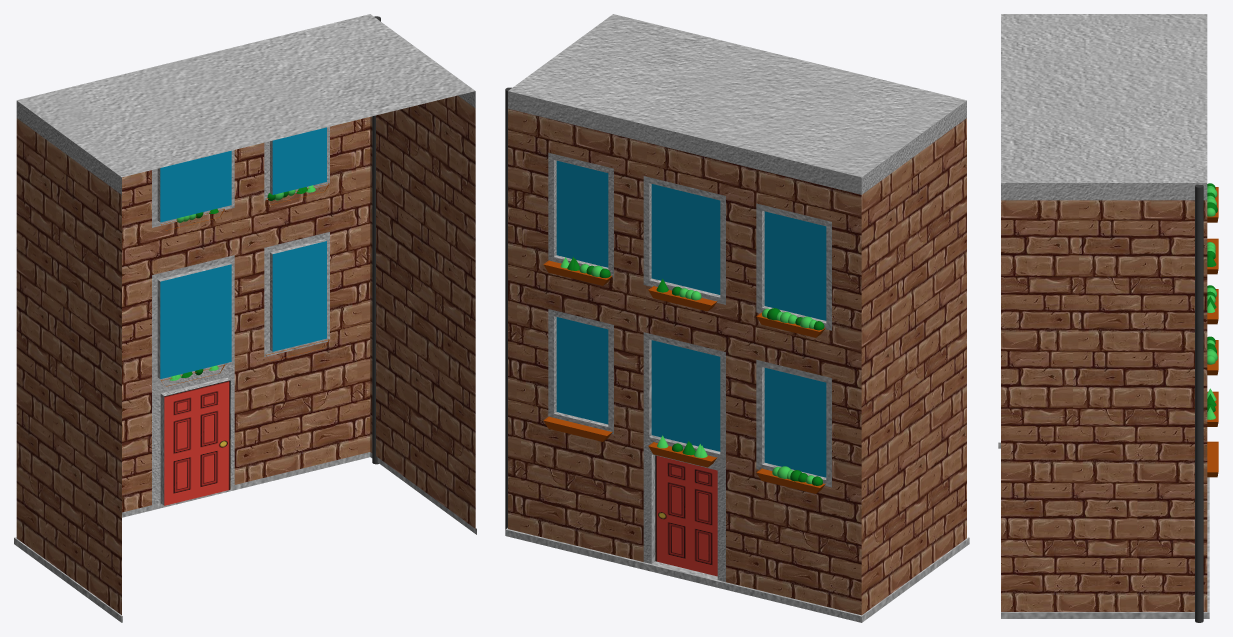
File: building_apartment.fbx
3 views of the same model, side by side, from view 1: azimuth 30°, elevation 25°; view 2: azimuth 150°, elevation 25°; view 3: azimuth 270°, elevation 25° (orthographic). The views are drawn at different scales.
Parts seen in each view (by area): view 1: building_apartment; view 2: building_apartment; view 3: building_apartment.
Part boxes in pixels (<box>): building_apartment: <box>14,14,476,622</box>; building_apartment: <box>505,14,969,622</box>; building_apartment: <box>998,14,1218,622</box>.
Size of the model in its own units: 510 by 602 by 275.
1 material, 1 textured.
